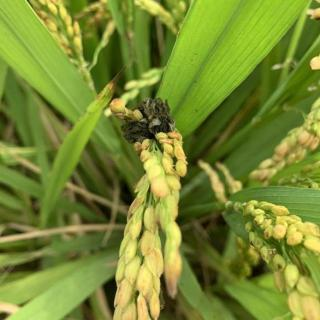Gosong-Palsu: (119, 96, 178, 145)
